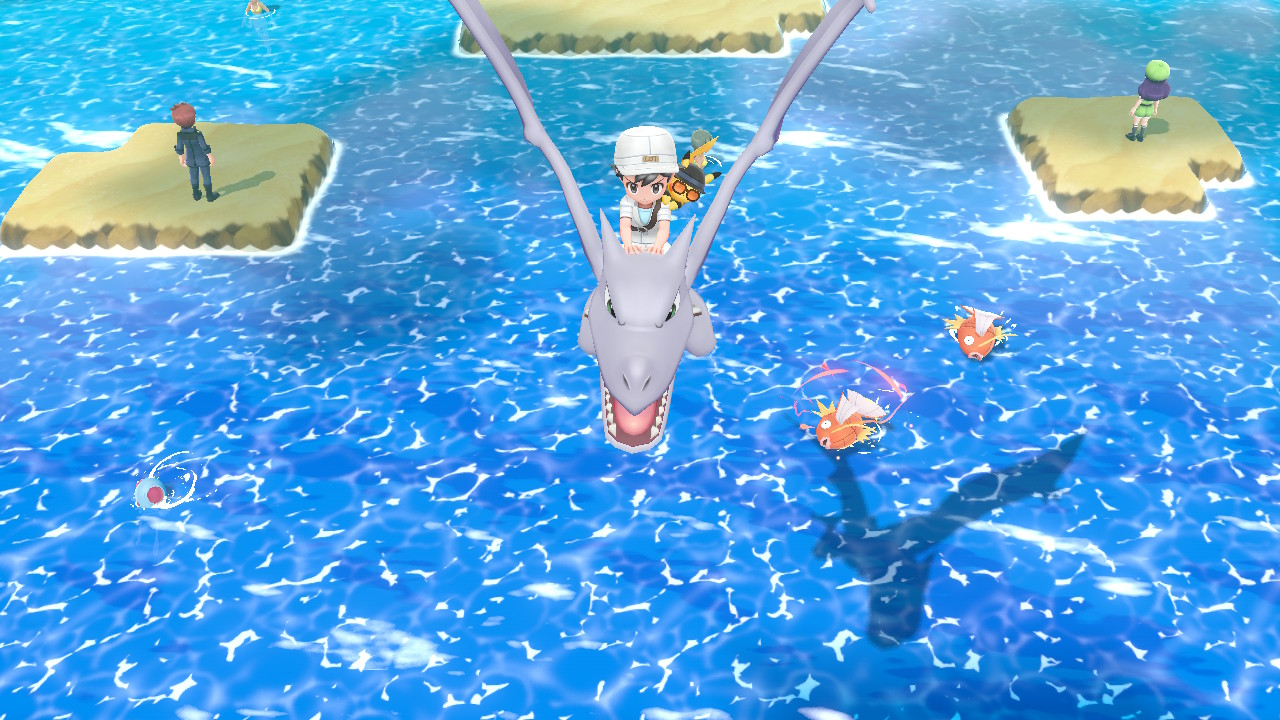Red: (795, 387, 892, 460), (938, 299, 1012, 365)
